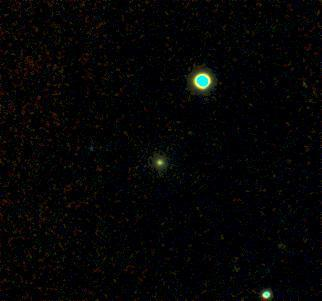star: (143, 145, 173, 175)
